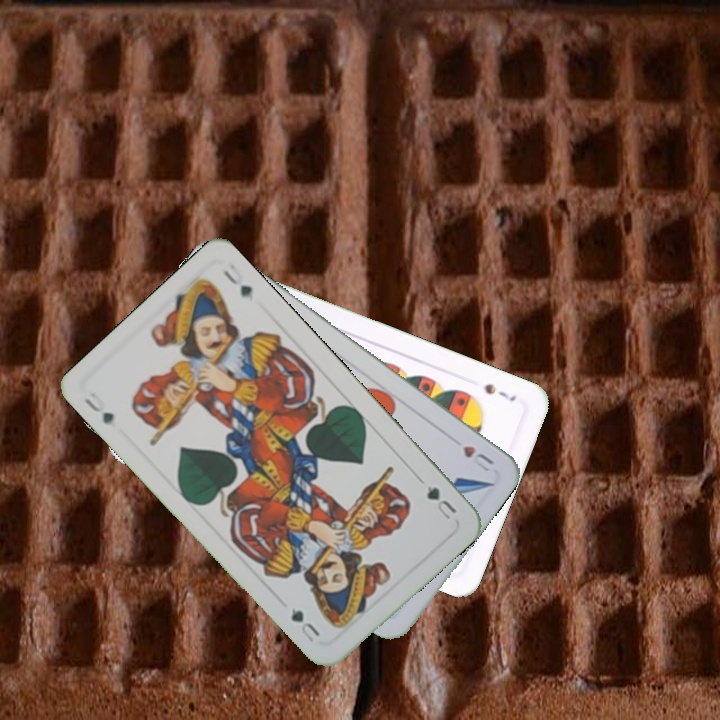GU: (422, 481, 459, 522), (80, 394, 117, 428)
HU: (458, 441, 497, 475)
S7: (480, 379, 519, 404)
